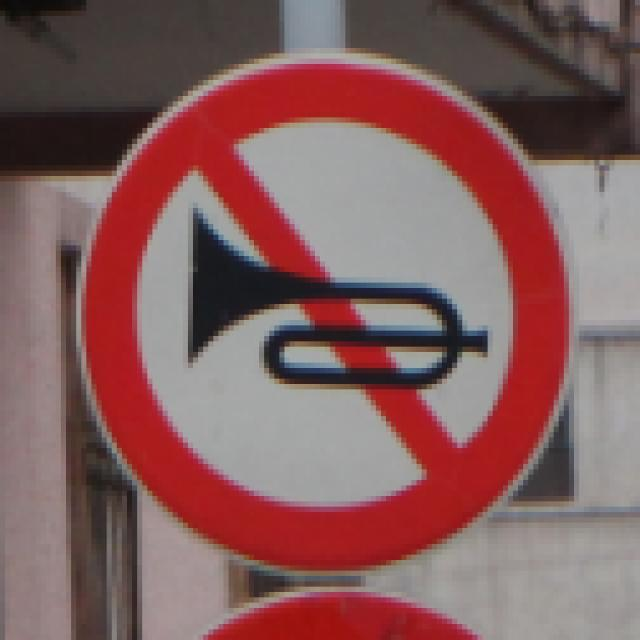No Horn: (82, 58, 573, 585)
